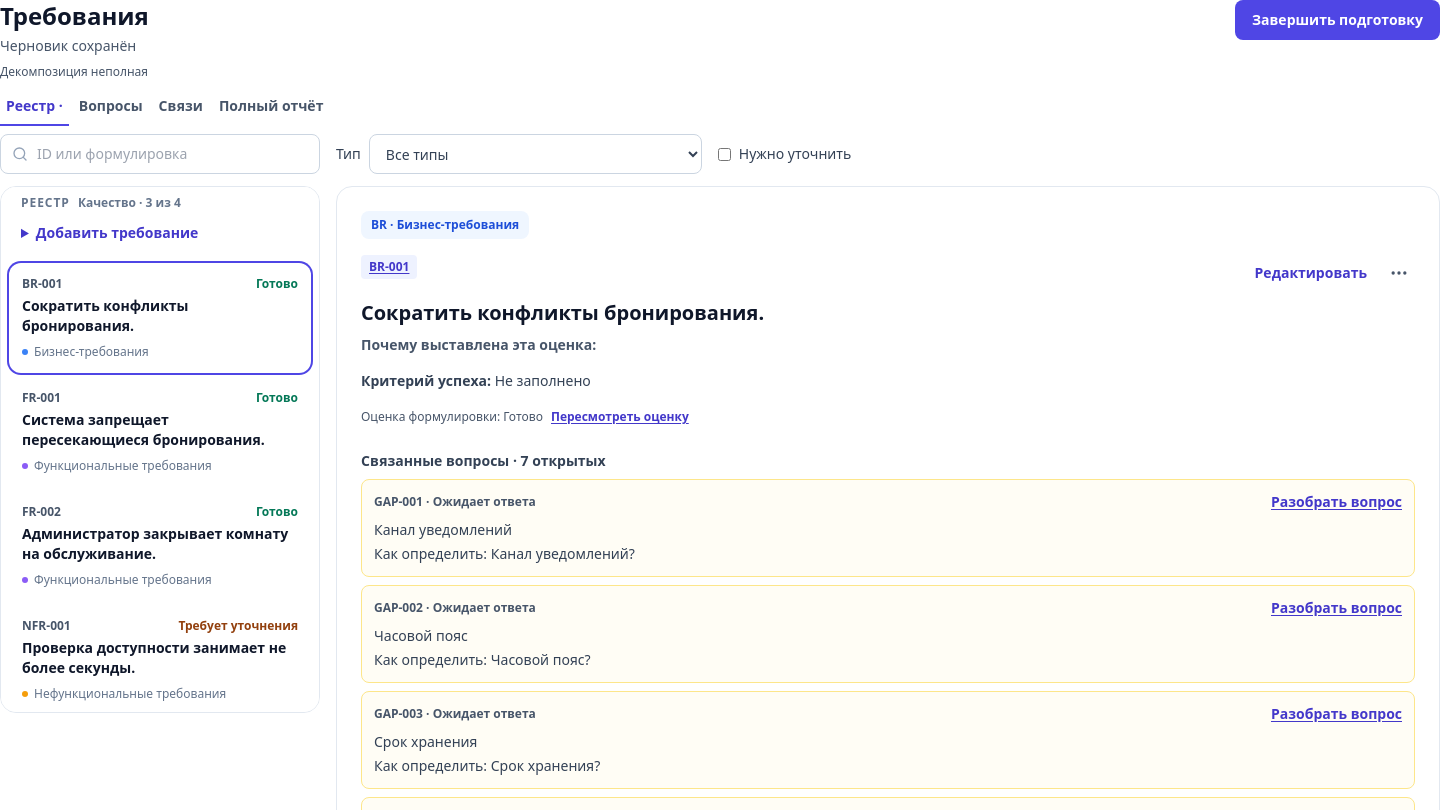
empty type stays addable and new record is selected despite a previous search
Step 1. Type "missing" into the search field → (160, 154), box 0,134 -> 320,174
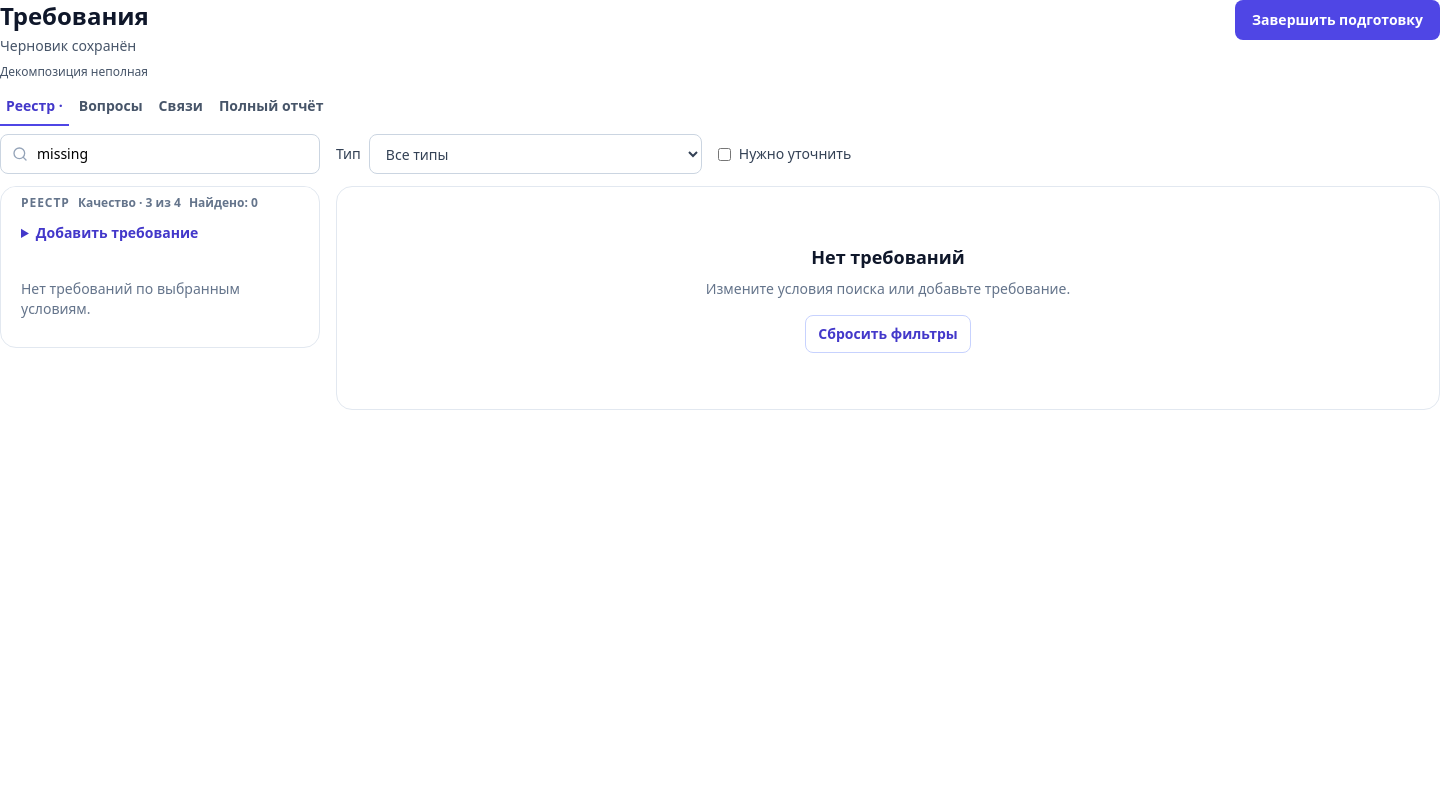
Step 2. Select "Требования заинтересованных сторон · 0" in the dropdown named "Тип требований" → (535, 154), box 369,134 -> 702,174
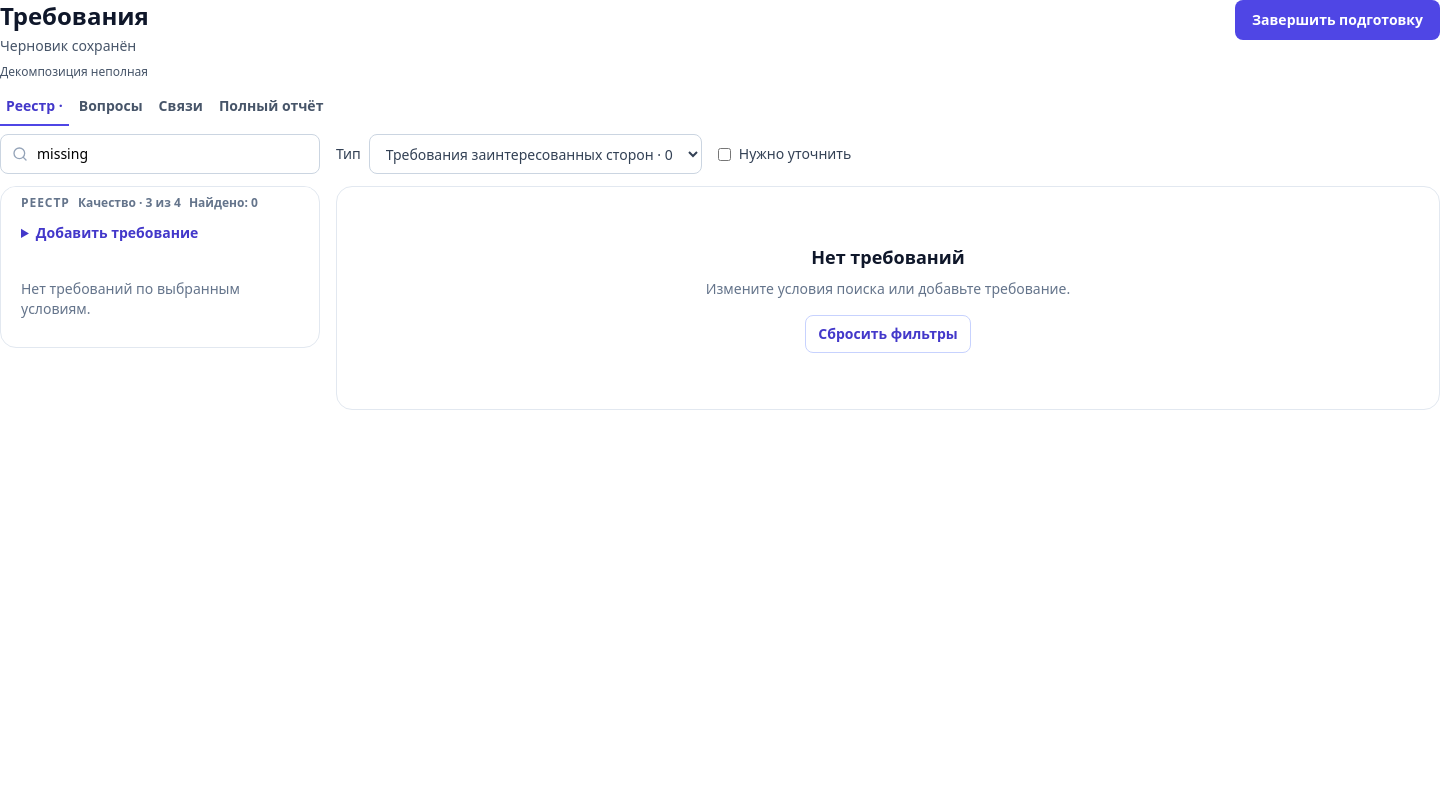
Check: the heading "Нет требований" is shown, box 811,245 -> 965,269
Step 3. Click the heading "Добавить требование" → (117, 232), box 36,223 -> 198,242
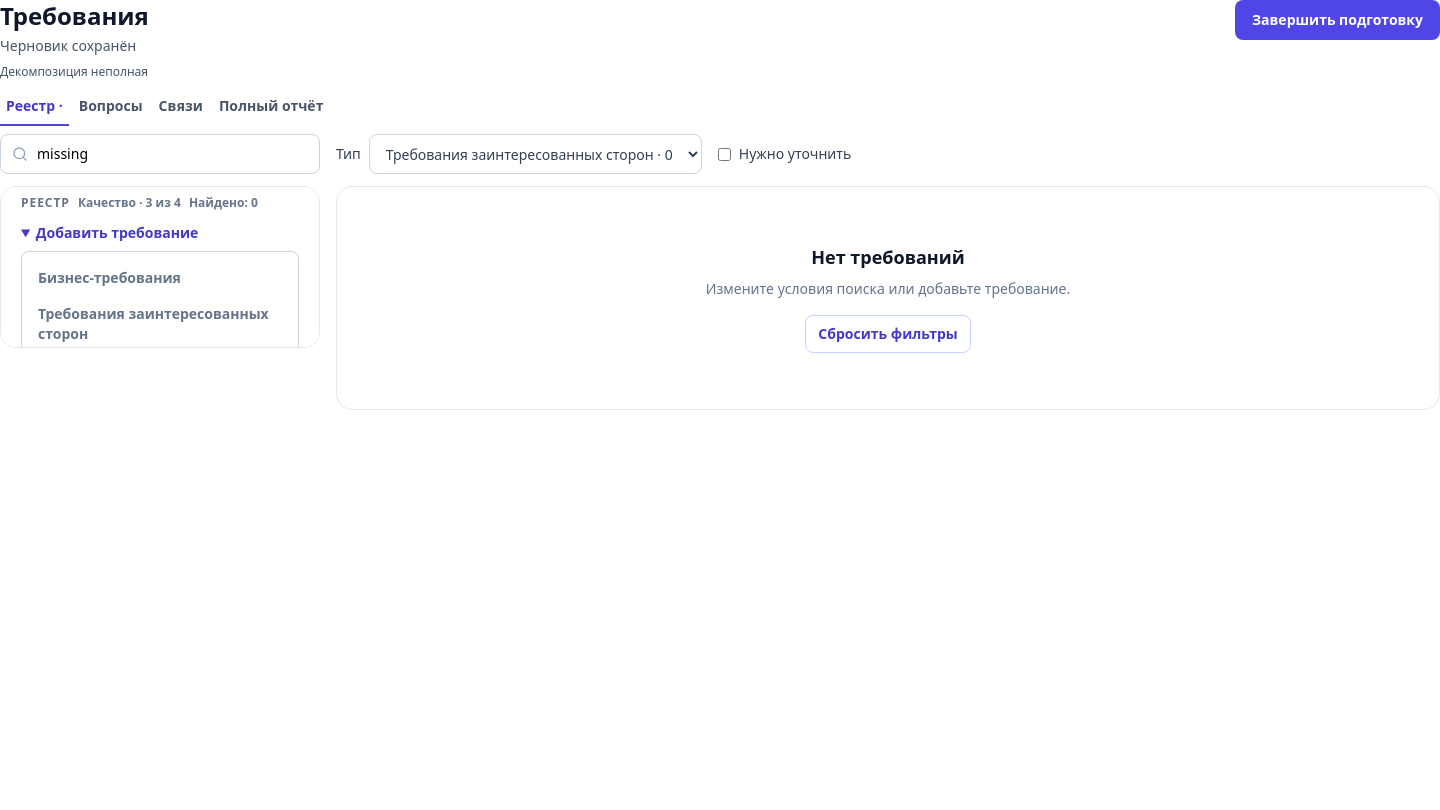
Step 4. Click the button "Требования заинтересованных сторон" → (160, 324), box 30,296 -> 290,352
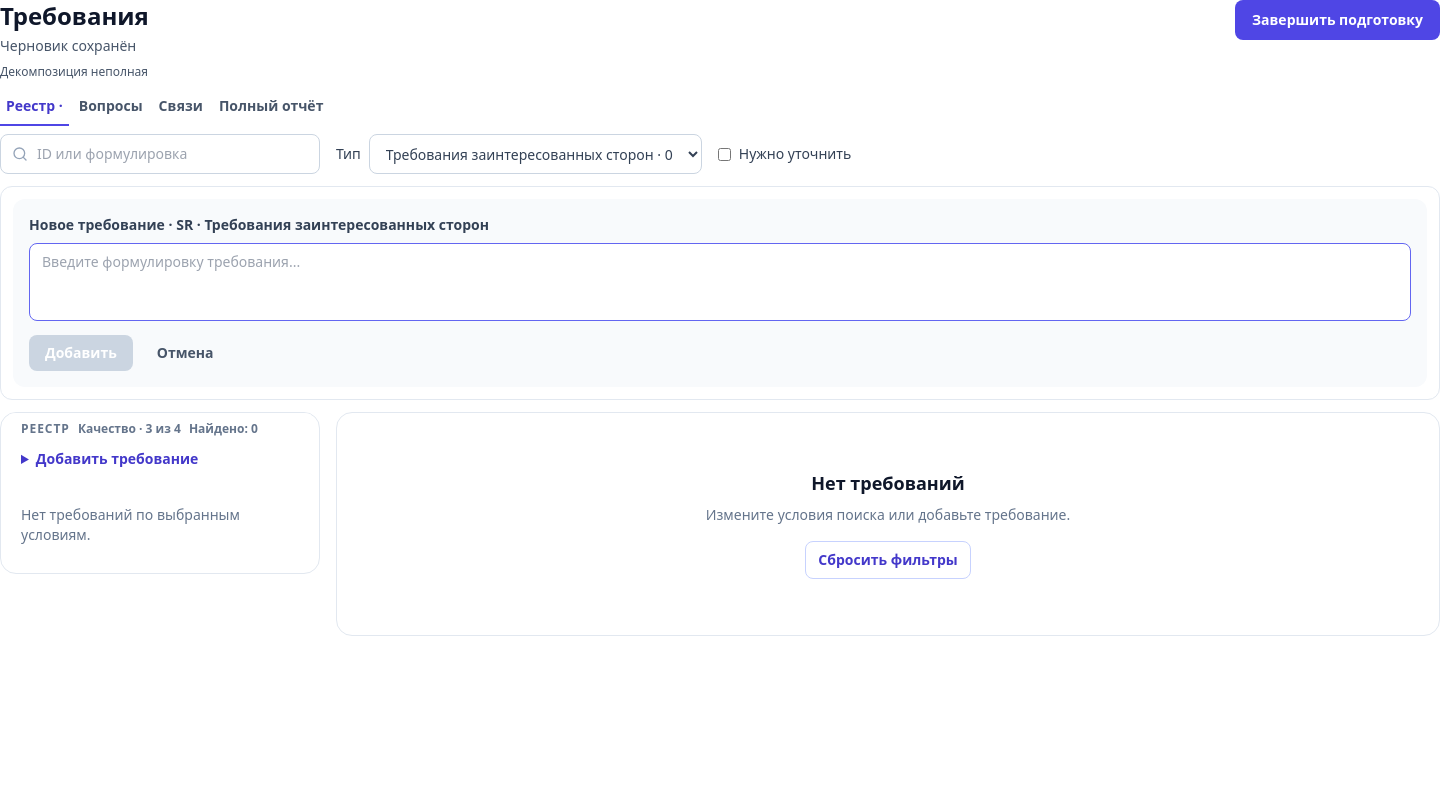
Step 5. Type "Сотрудник выбирает комнату." into the text box with placeholder "Введите формулировку требования..." → (720, 282), box 29,243 -> 1411,321
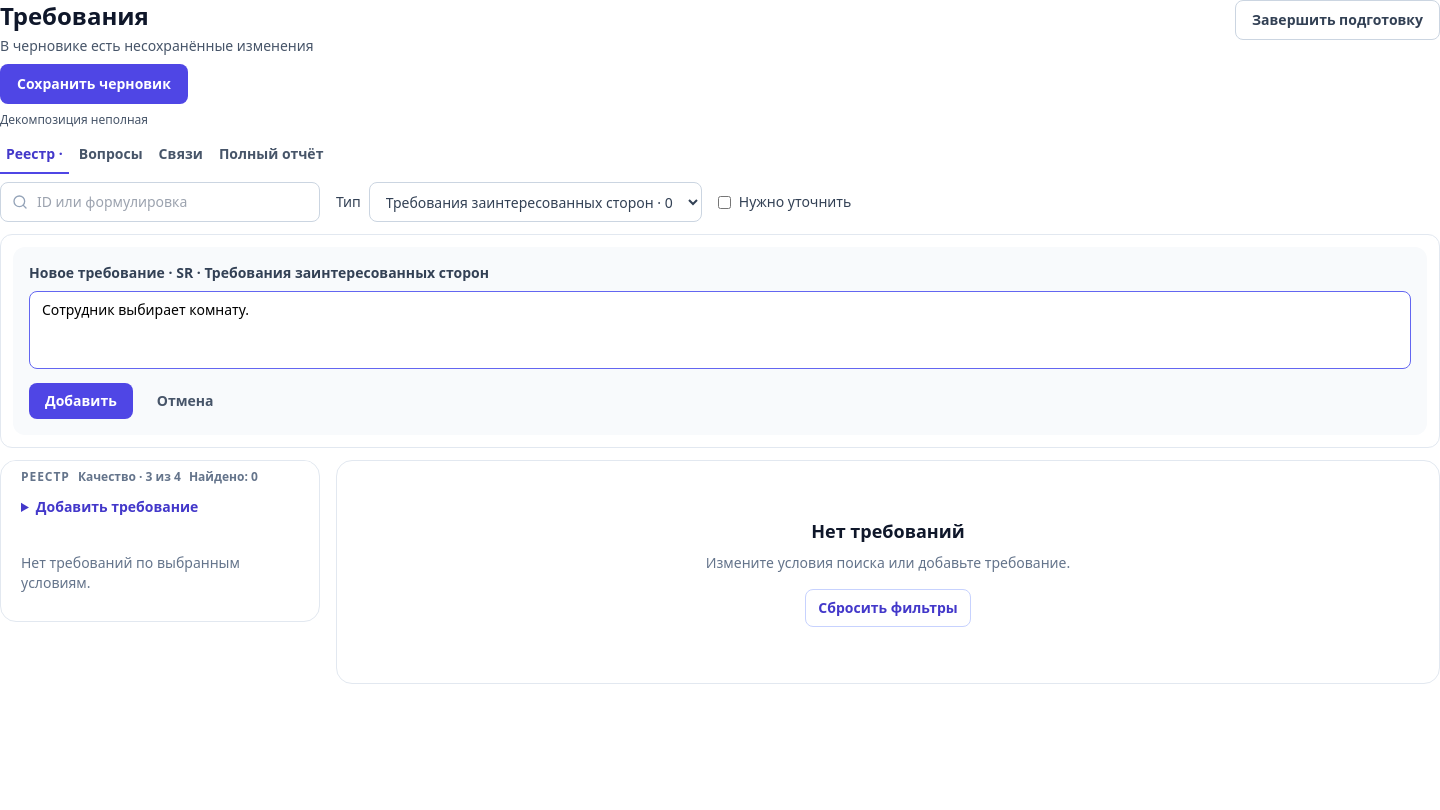
Step 6. Click the button "Добавить" → (81, 401), box 29,383 -> 133,419
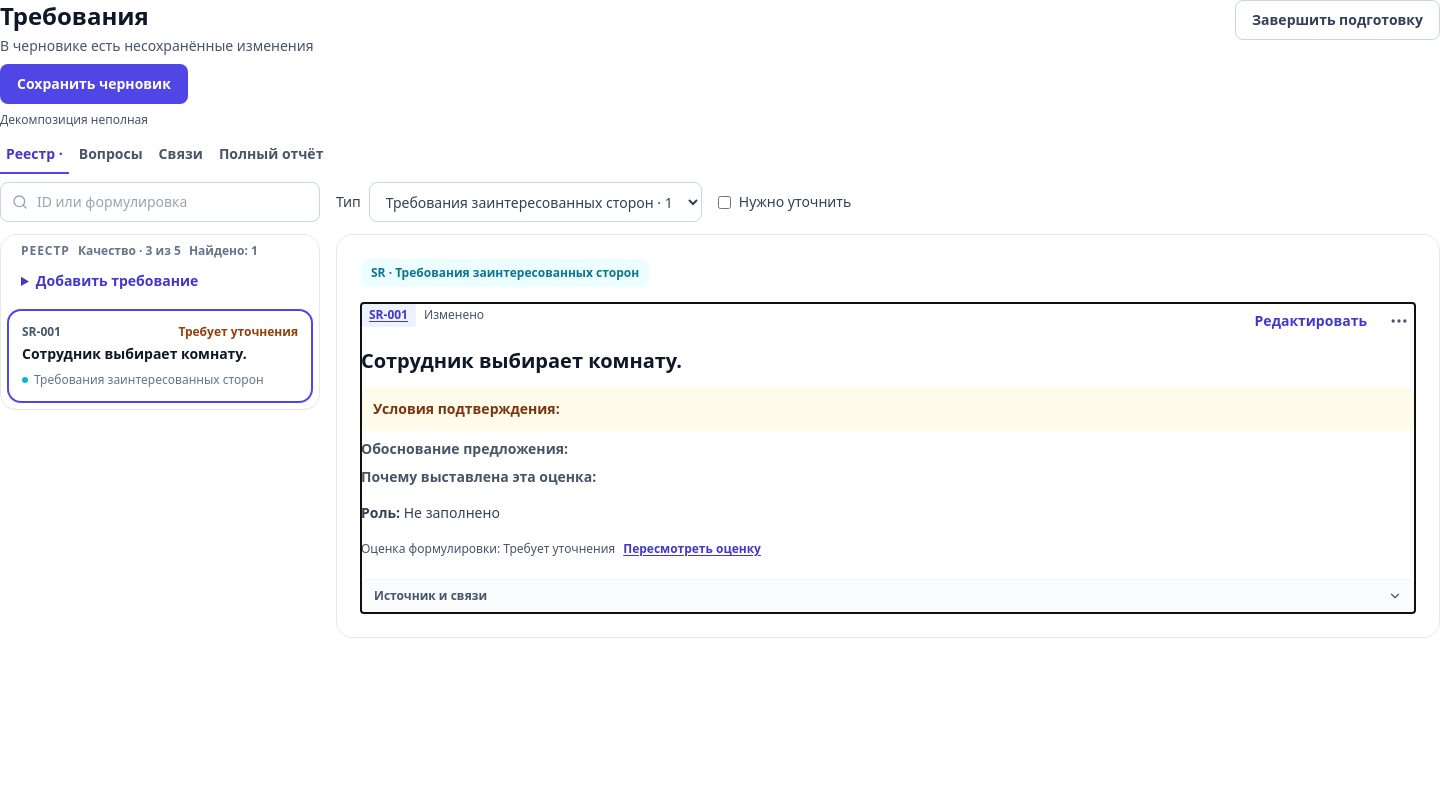
Check: the search field is empty, box 0,182 -> 320,222
Check: the heading "Сотрудник выбирает комнату." is shown, box 361,347 -> 682,374
